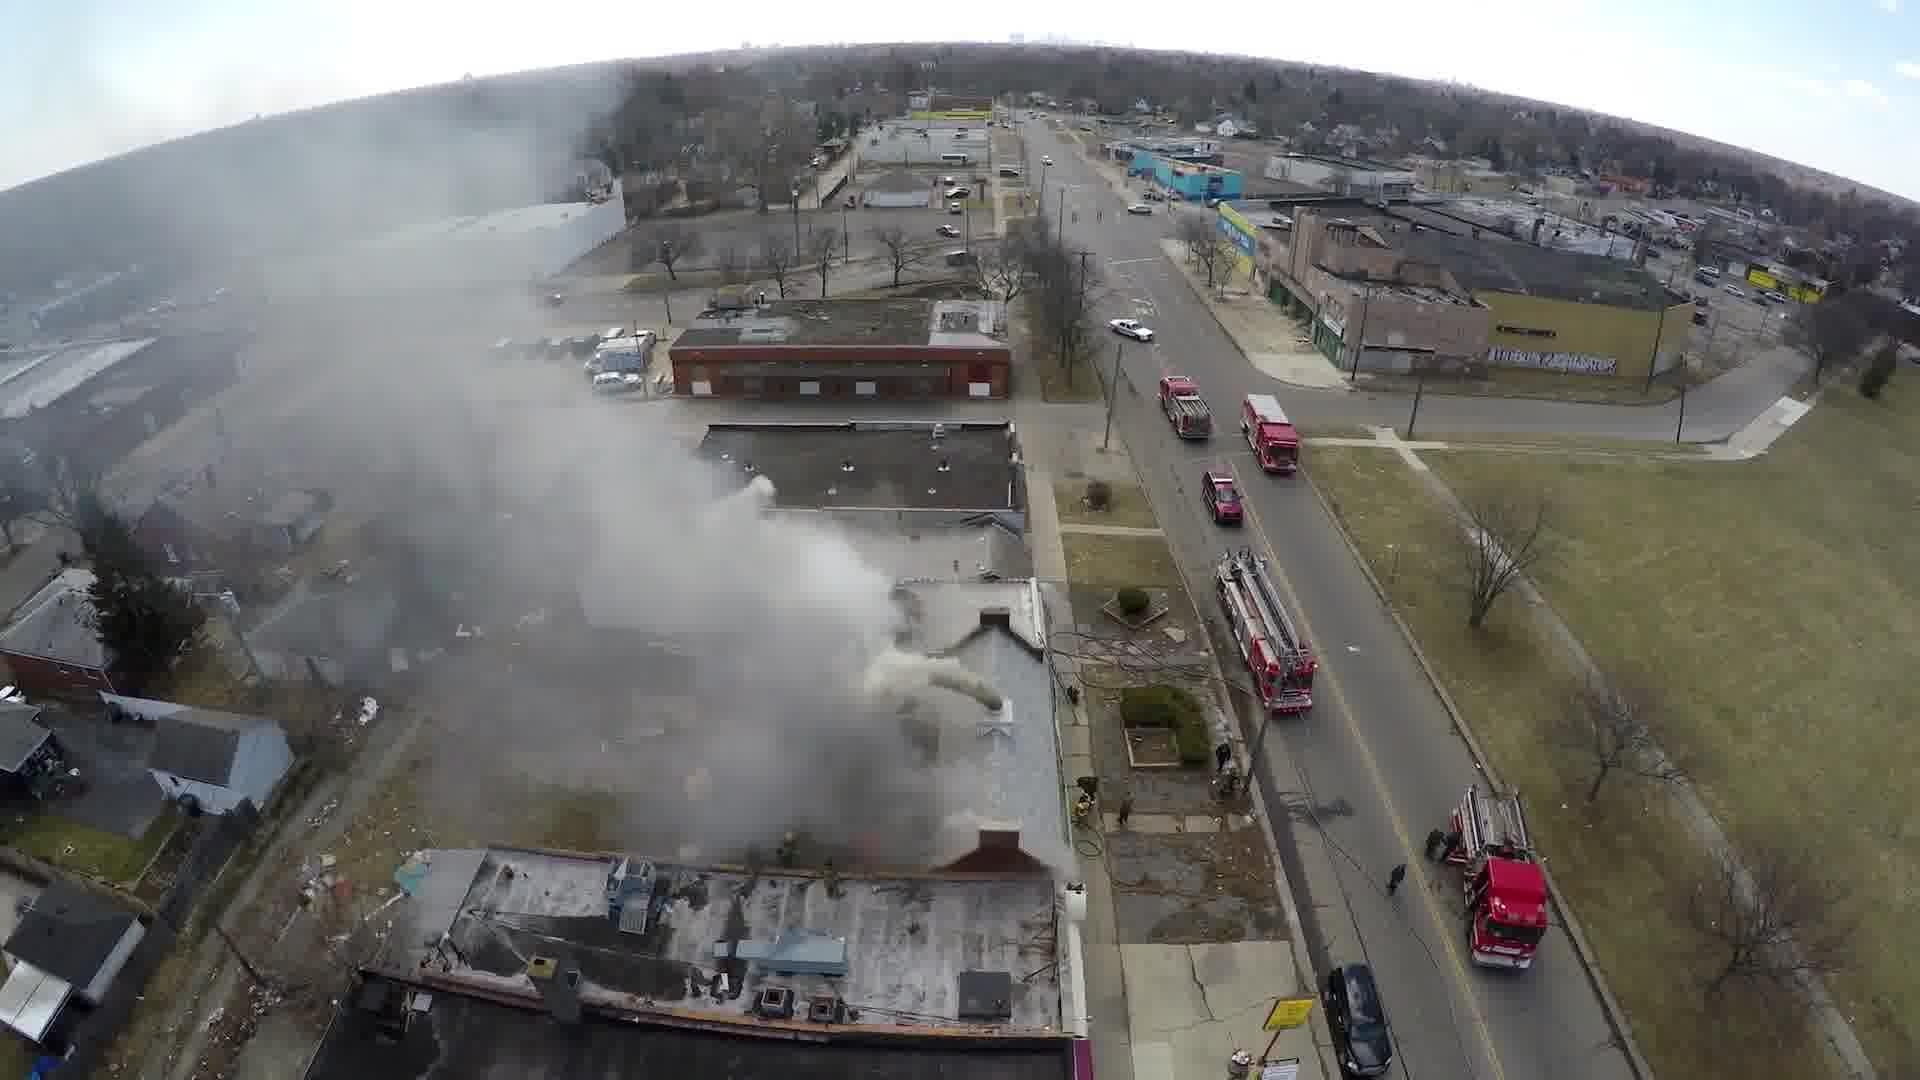smoke: (266, 141, 840, 824)
